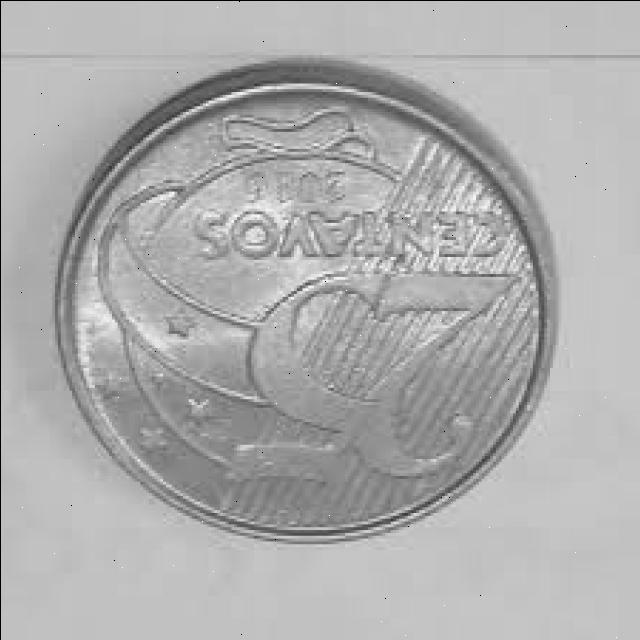25 cent: (49, 66, 560, 546)
